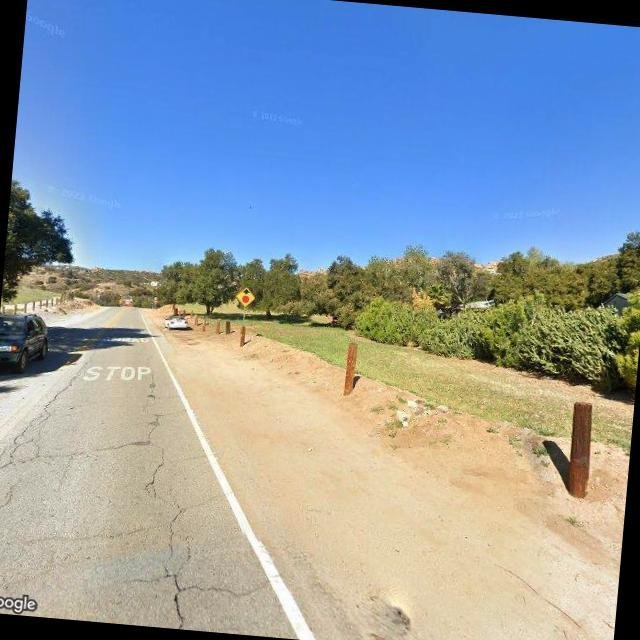crack: (0, 366, 269, 631)
